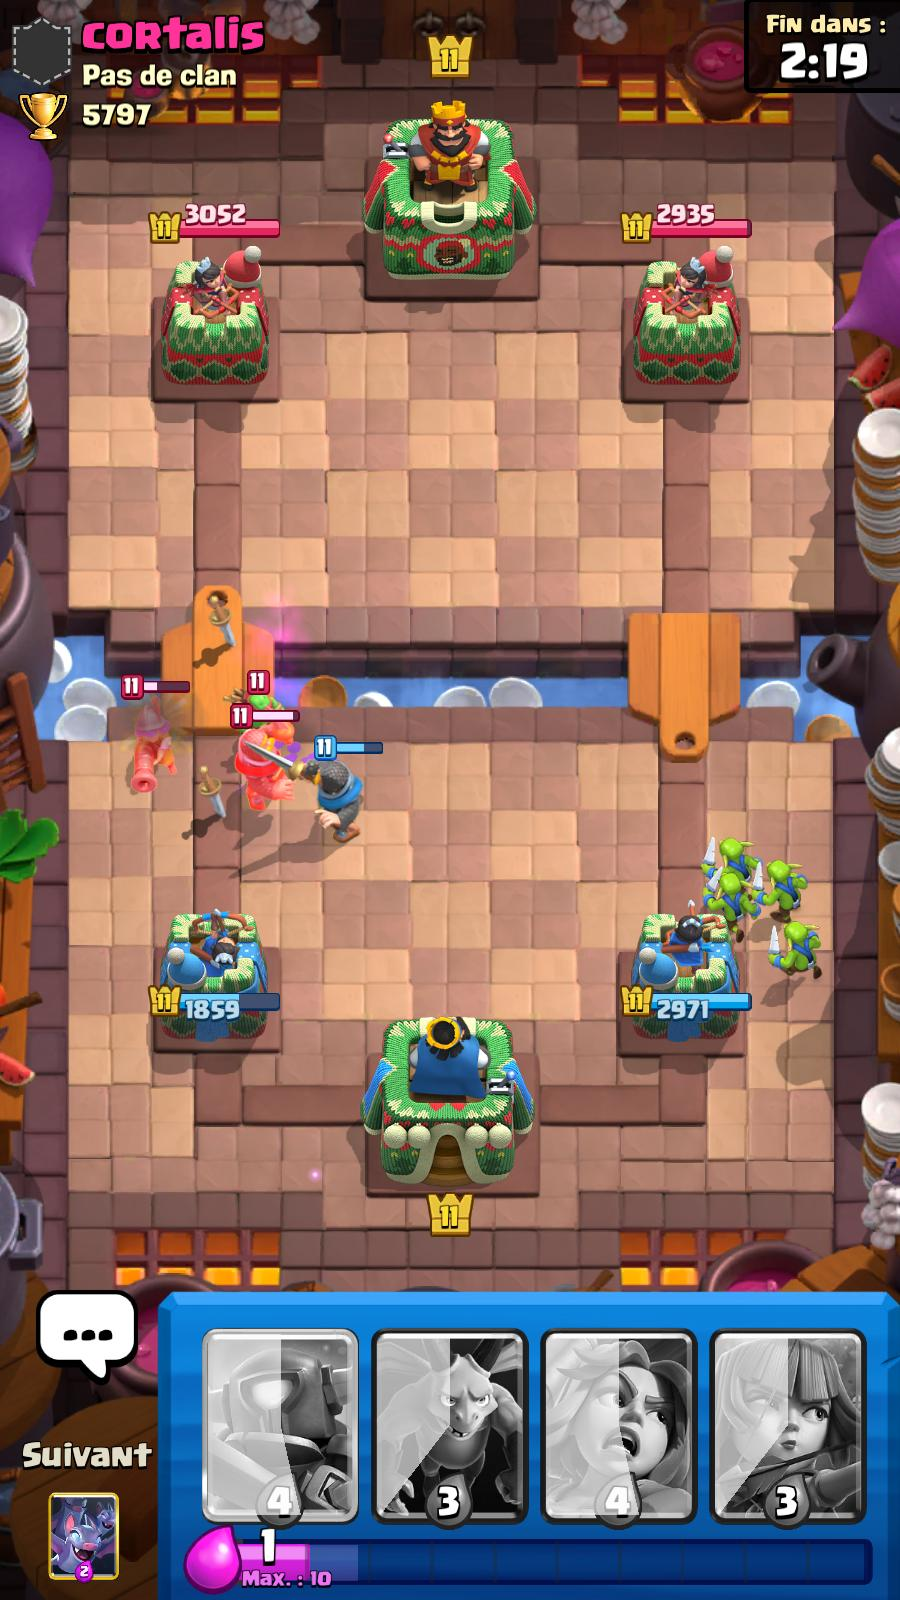chevalier: (281, 730, 392, 854), (221, 721, 312, 824)
gobelin: (701, 864, 765, 952), (763, 912, 835, 977), (699, 834, 767, 889), (754, 856, 813, 916)
gobelin_lances: (225, 677, 309, 746)
mousquetaire: (107, 675, 200, 801)
